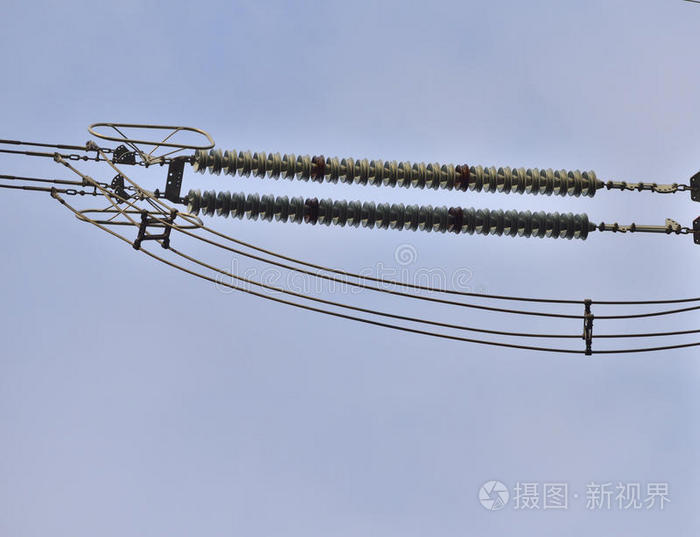insulator: (182, 146, 599, 242)
